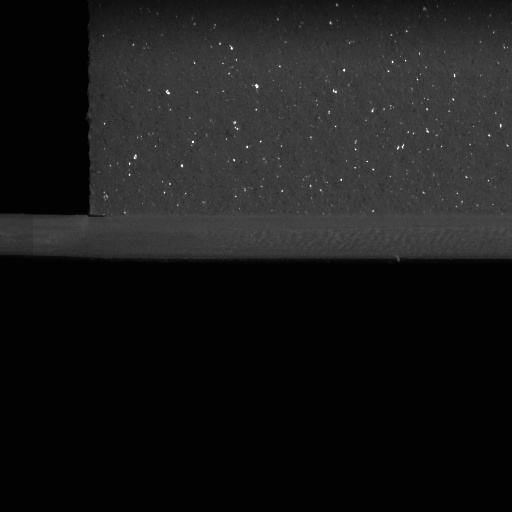changdai: (0, 212, 98, 262)
